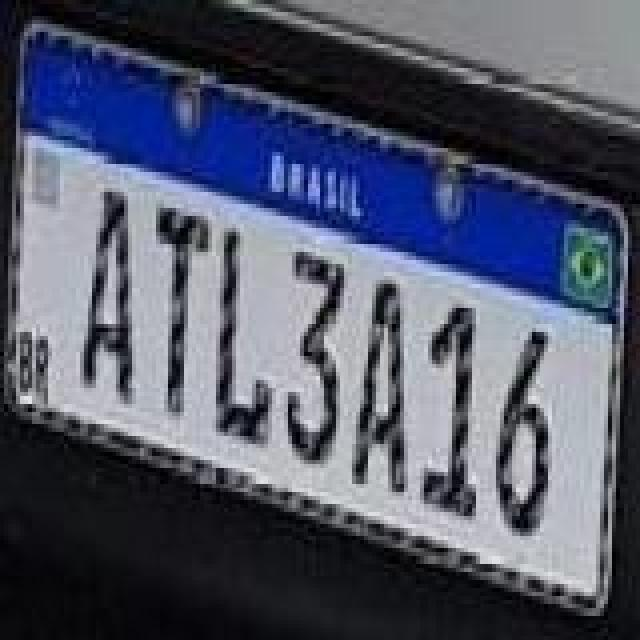1: (420, 304, 476, 520)
3: (286, 244, 346, 468)
6: (492, 326, 548, 538)
A: (346, 276, 406, 500), (84, 188, 140, 404)
L: (210, 224, 270, 448)
T: (156, 206, 212, 418)
